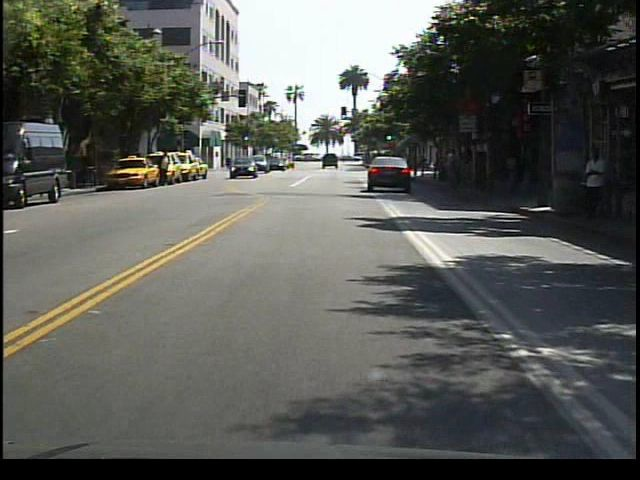person: (576, 143, 612, 228), (158, 151, 174, 190)
